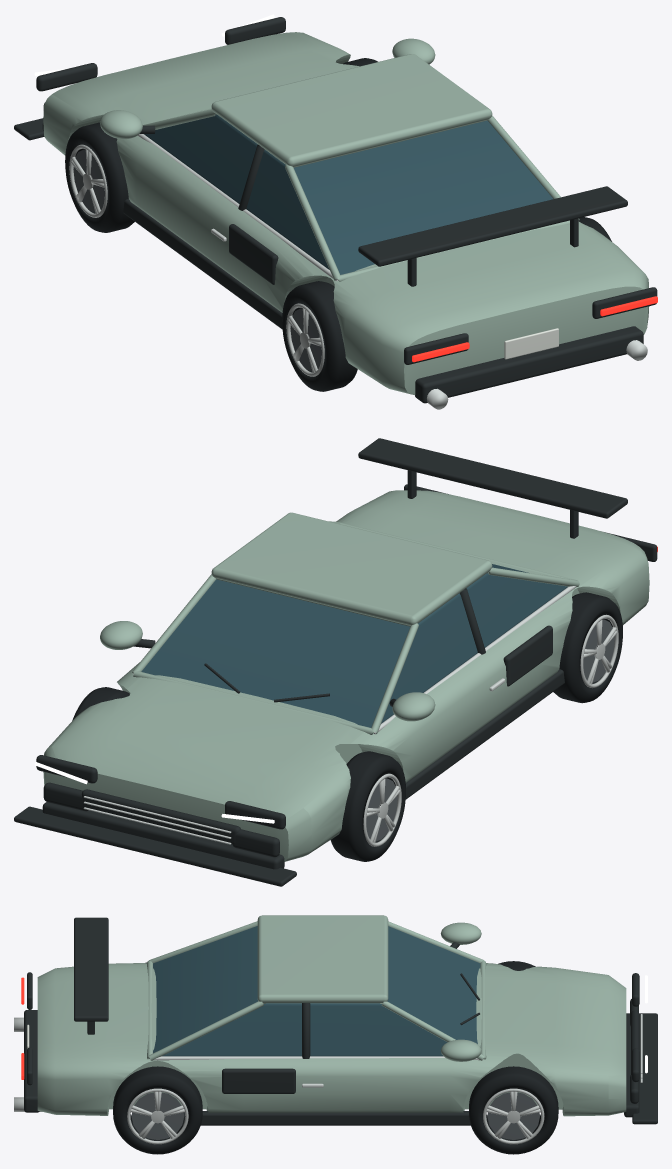
The model's file is apex-r.glb.
3 renders of one model, top to bottom at view 1: azimuth 30°, elevation 25°; view 2: azimuth 150°, elevation 25°; view 3: azimuth 270°, elevation 25°, orthographic. The views are drawn at different scales.
Visible parts, largest first — view 1: apex-r_Paint, apex-r_Smoked glass, apex-r_Graphite, Spoiler, Spin_RL.001_Rubber, Spin_FL.001_Rubber, apex-r_Satin aluminium, Spin_RL.001_WheelFinish, Spin_FL.001_WheelFinish, apex-r_Ivory, Spin_RL.001_Brake steel, Spin_FL.001_Brake steel (+1 smaller); view 2: apex-r_Paint, apex-r_Smoked glass, apex-r_Graphite, Spoiler, Spin_FL.001_Rubber, Spin_RL.001_Rubber, apex-r_Satin aluminium, Spin_RL.001_WheelFinish, Spin_FL.001_WheelFinish, Spin_FL.001_Brake steel, Spin_RL.001_Brake steel, Spin_FR.001_Rubber; view 3: apex-r_Paint, apex-r_Smoked glass, apex-r_Graphite, Spin_FR.001_Rubber, Spin_RR.001_Rubber, Spoiler, apex-r_Satin aluminium, Spin_RR.001_WheelFinish, Spin_FR.001_WheelFinish, Spin_RR.001_Brake steel, Spin_FR.001_Brake steel.
Boxes of the visible parts, x1,y1,x2,y2 form: apex-r_Paint: (43, 32, 649, 394); apex-r_Smoked glass: (144, 114, 553, 274); apex-r_Graphite: (14, 17, 657, 403); Spoiler: (358, 186, 627, 266); Spin_RL.001_Rubber: (282, 281, 357, 391); Spin_FL.001_Rubber: (65, 122, 134, 232); apex-r_Satin aluminium: (138, 134, 647, 409); Spin_RL.001_WheelFinish: (286, 303, 324, 376); Spin_FL.001_WheelFinish: (69, 144, 107, 217); apex-r_Ivory: (504, 328, 558, 359); Spin_RL.001_Brake steel: (290, 308, 321, 370); Spin_FL.001_Brake steel: (73, 149, 104, 212); apex-r_Paint: (43, 490, 649, 861); apex-r_Smoked glass: (141, 564, 567, 727); apex-r_Graphite: (14, 470, 657, 886); Spoiler: (358, 438, 627, 518); Spin_FL.001_Rubber: (330, 751, 405, 861); Spin_RL.001_Rubber: (553, 592, 622, 703); apex-r_Satin aluminium: (83, 586, 576, 844); Spin_RL.001_WheelFinish: (580, 614, 618, 687); Spin_FL.001_WheelFinish: (363, 773, 401, 846); Spin_FL.001_Brake steel: (366, 778, 397, 841); Spin_RL.001_Brake steel: (583, 619, 614, 682); Spin_FR.001_Rubber: (72, 687, 129, 720); apex-r_Paint: (37, 915, 626, 1116); apex-r_Smoked glass: (153, 926, 480, 1056); apex-r_Graphite: (24, 942, 657, 1125); Spin_FR.001_Rubber: (469, 1066, 558, 1154); Spin_RR.001_Rubber: (113, 1066, 202, 1154); Spoiler: (74, 917, 108, 1021); apex-r_Satin aluminium: (14, 1014, 642, 1111); Spin_RR.001_WheelFinish: (127, 1088, 188, 1144); Spin_FR.001_WheelFinish: (483, 1088, 544, 1144); Spin_RR.001_Brake steel: (131, 1092, 184, 1139); Spin_FR.001_Brake steel: (487, 1092, 539, 1139).
Bounding box in the file's own units: 2.42 × 1.24 × 5.03.
